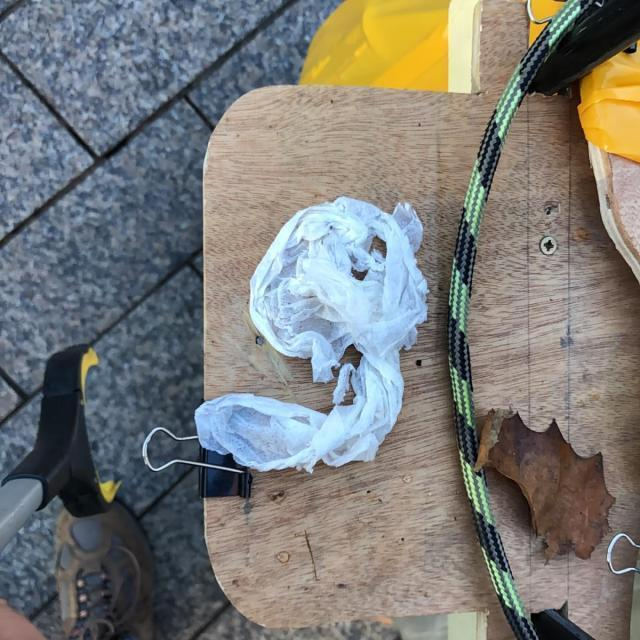Paper: (196, 194, 431, 476)
